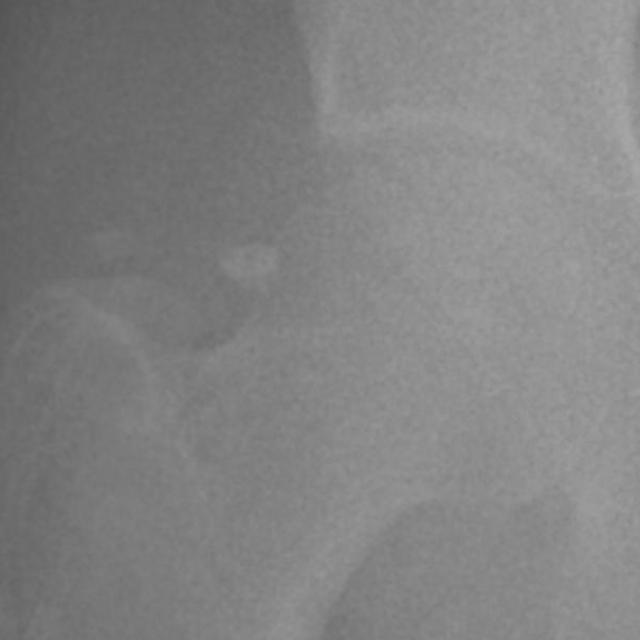Fitted_femural_head: (375, 154, 432, 375)
